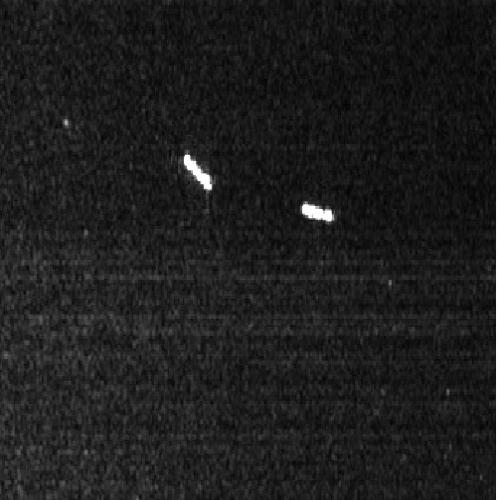ship: (182, 153, 213, 191), (301, 203, 335, 223)
